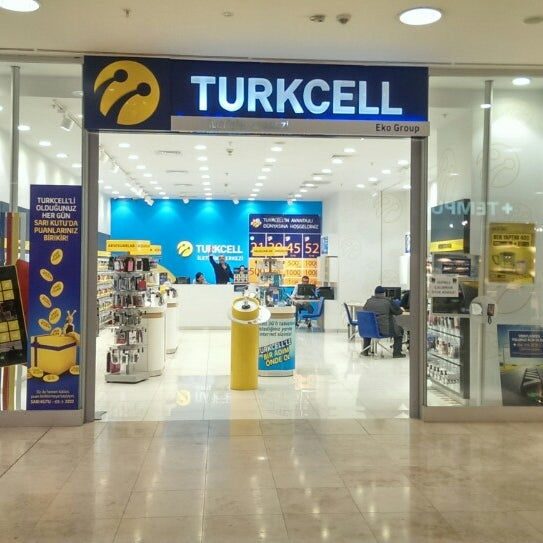turkcell: (93, 57, 160, 127)
